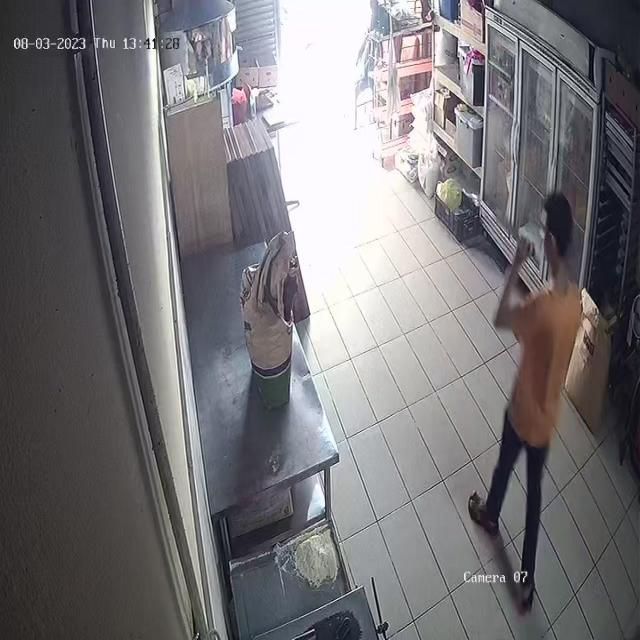Knife: (494, 199, 538, 256)
